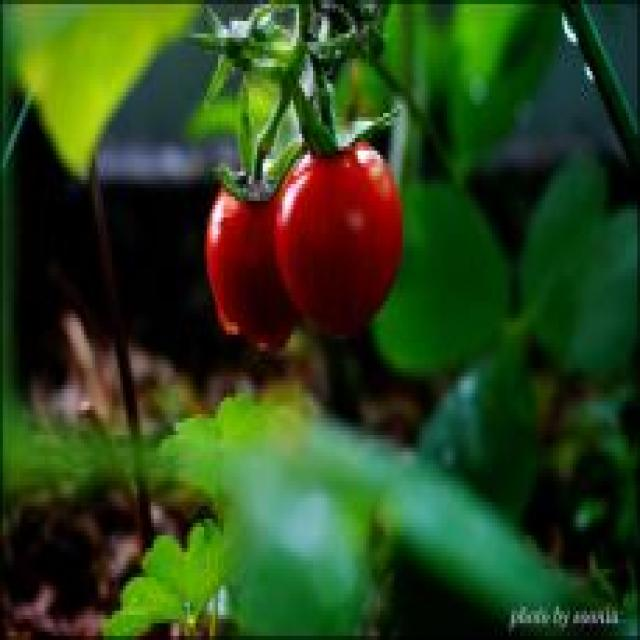level 6: (274, 122, 412, 349), (182, 146, 317, 372)
